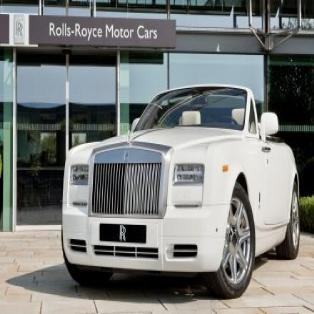Auto: (61, 89, 301, 300)
